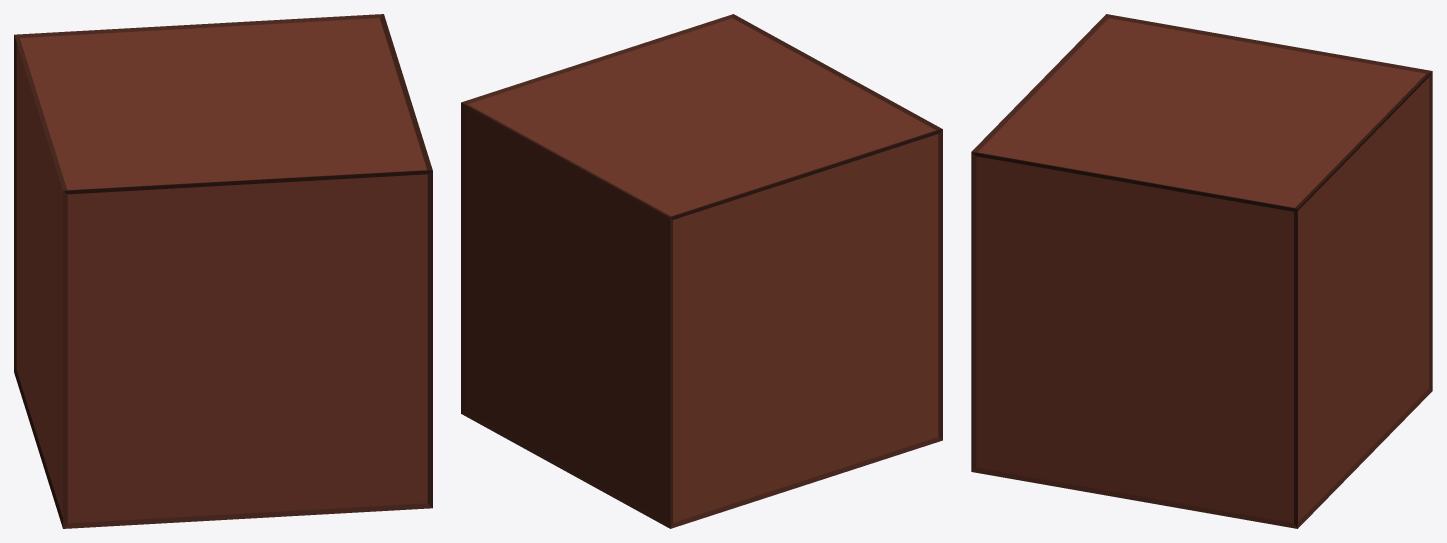
The model's file is Hexaedro.glb.
3 renders of one model, left to right at view 1: azimuth 30°, elevation 25°; view 2: azimuth 150°, elevation 25°; view 3: azimuth 270°, elevation 25°, orthographic. The views are drawn at different scales.
Visible parts, largest first — view 1: Solid.004, Solid.001; view 2: Solid.004, Solid.001; view 3: Solid.004, Solid.001.
Part boxes in pixels (x1,y1,x2,y2): Solid.004: (16,18,427,523); Solid.001: (14,14,432,528); Solid.004: (465,18,938,522); Solid.001: (461,14,942,528); Solid.004: (976,18,1429,522); Solid.001: (971,14,1432,528).
Bounding box in the file's own units: 1.52 × 1.17 × 1.52.
